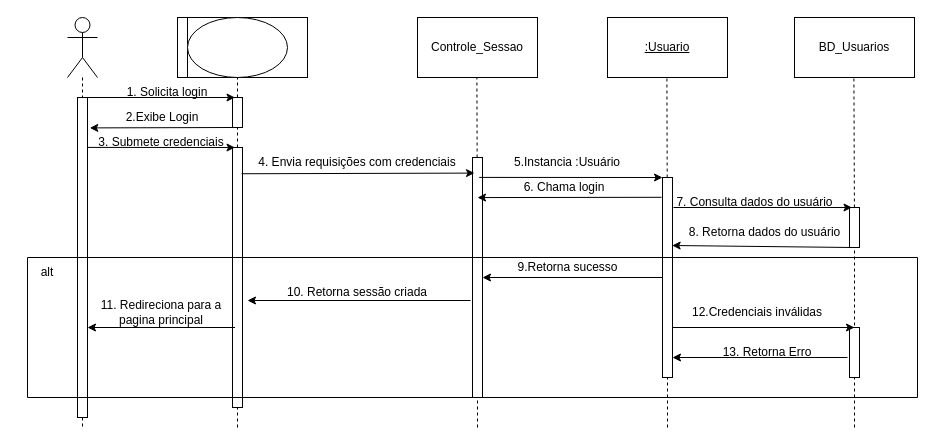
Some shapes in this 935 by 446 pixel diagram are drawn without their labels. The centre of each missing label's shape, as x and y in pixels:
IU_Login: the point at 237,47
Leitor: the point at 82,47
